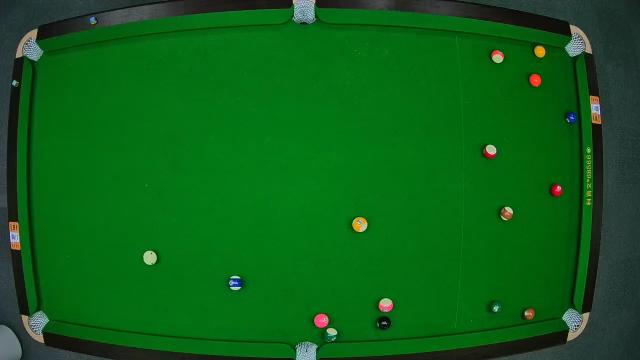bag1: (24, 40, 40, 62)
bag2: (292, 2, 316, 22)
bag3: (566, 34, 584, 56)
bag4: (27, 310, 49, 336)
bag5: (295, 342, 319, 360)
bag6: (562, 308, 584, 332)
ball0: (141, 250, 159, 266)
ball1: (533, 43, 547, 60)
ball10: (227, 276, 245, 292)
ball11: (482, 144, 500, 160)
ball12: (378, 298, 394, 314)
ball13: (489, 50, 505, 62)
ball14: (323, 328, 339, 342)
ball15: (500, 204, 514, 222)
ball2: (565, 110, 579, 126)
ball3: (550, 182, 564, 198)
ball4: (312, 313, 330, 329)
ball5: (527, 72, 541, 88)
ball6: (488, 300, 504, 314)
ball7: (522, 306, 536, 322)
ball8: (376, 315, 392, 331)
ball9: (352, 216, 368, 234)
